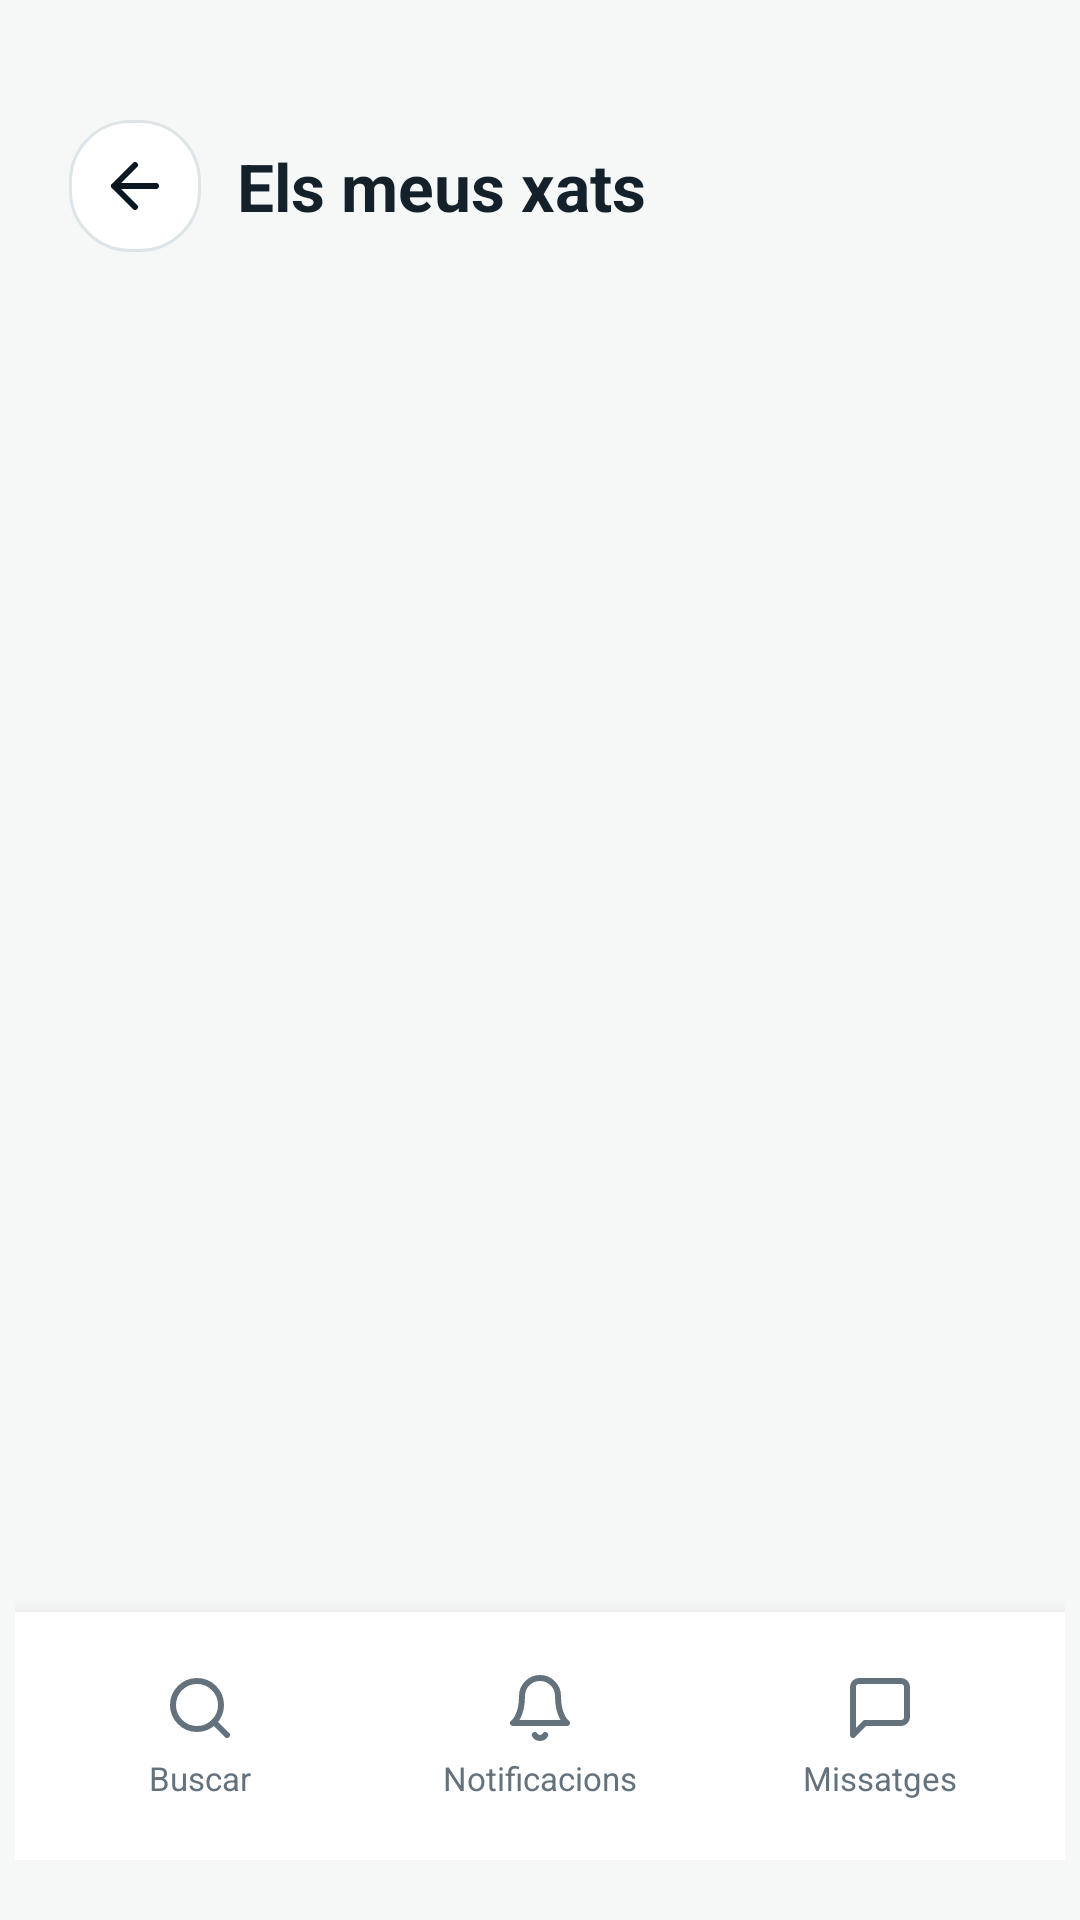

Icon bounding boxes for this 1080x1920 phone screenshot, format (x1=x1, y1=y1, x2=x2, y2=y2):
Torna enrere: (x1=69, y1=120, x2=201, y2=252)
